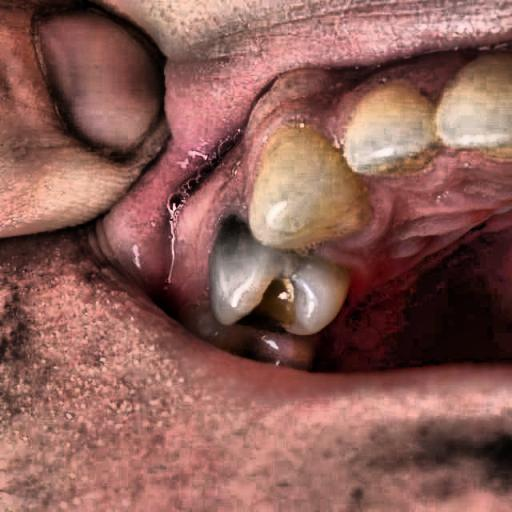Caries: (191, 198, 328, 346)
